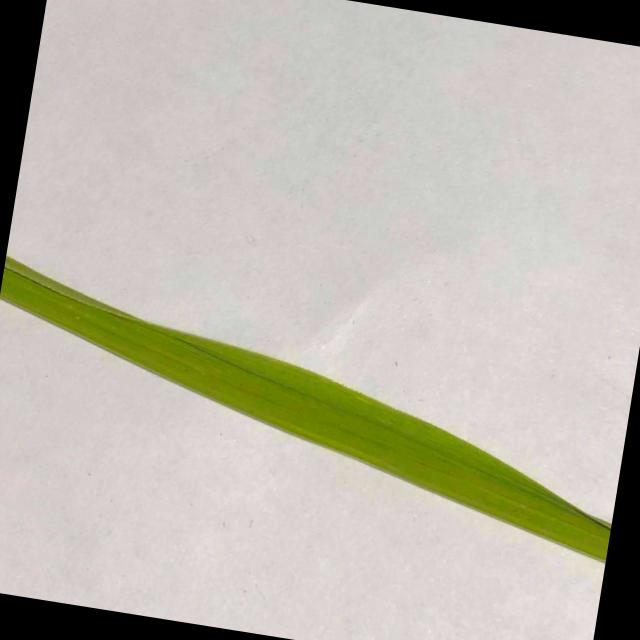Rice_Healthy: (0, 257, 611, 563)
